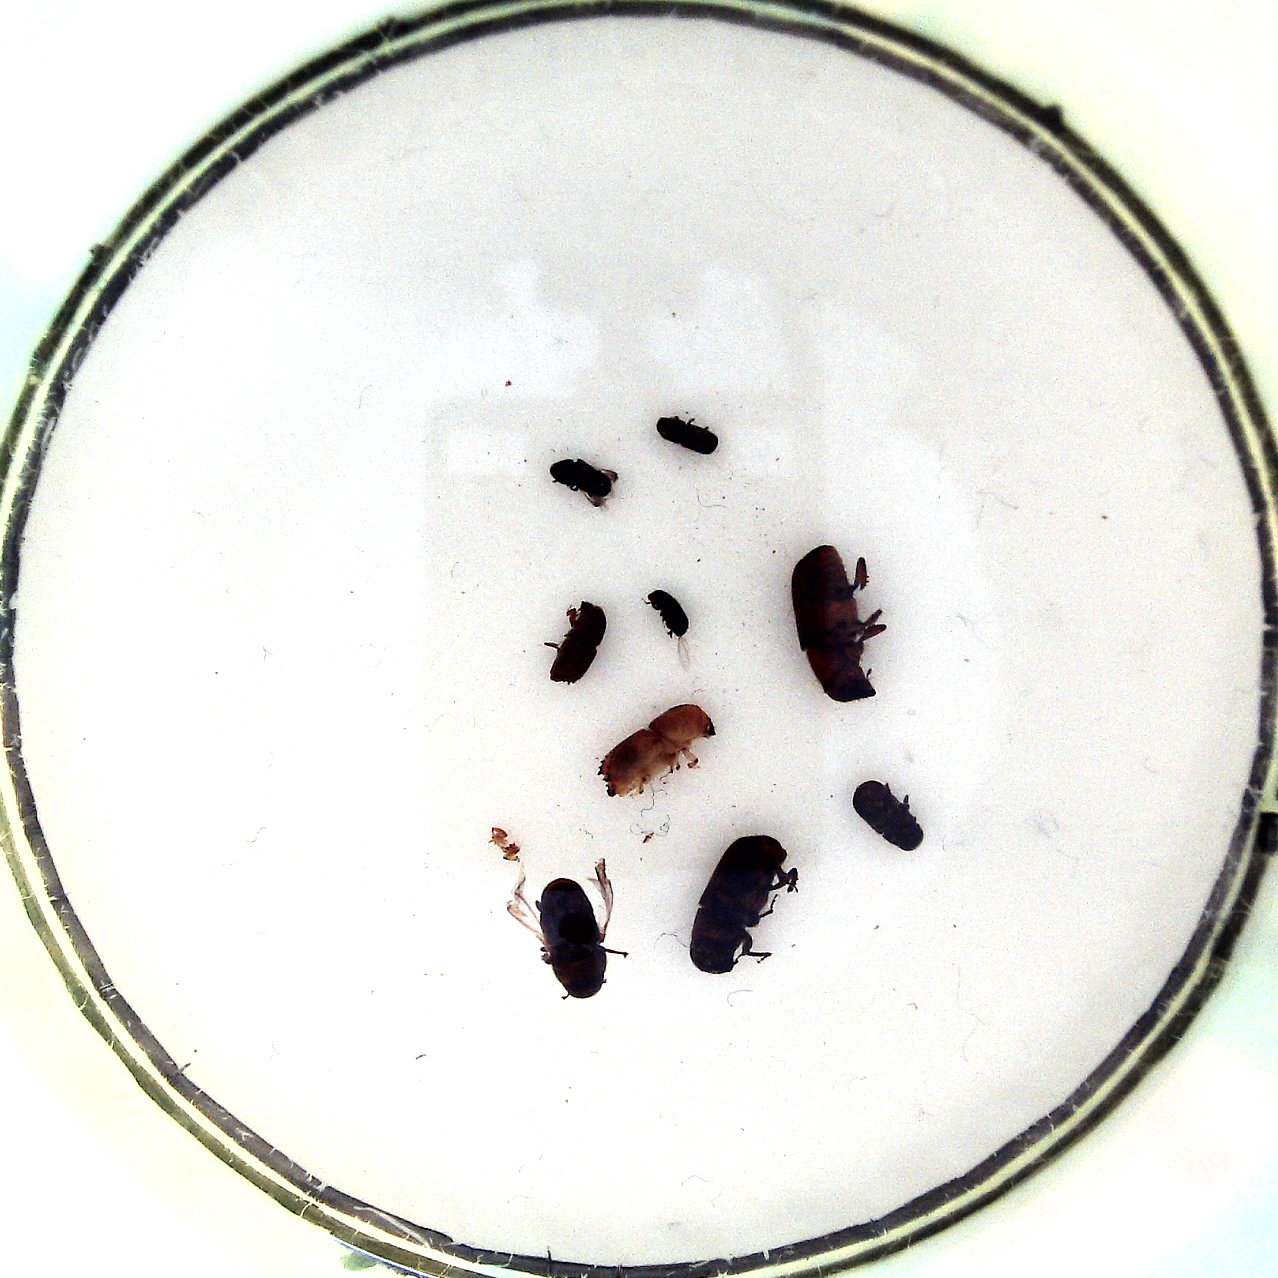Boerner: (588, 699, 721, 801)
Leconte: (501, 848, 631, 1005), (783, 535, 885, 707), (685, 827, 801, 978)
Linnaeus: (536, 597, 618, 689)
armandi: (846, 771, 932, 853)
coleoptera: (643, 579, 698, 674), (542, 453, 624, 511), (650, 407, 726, 461)
